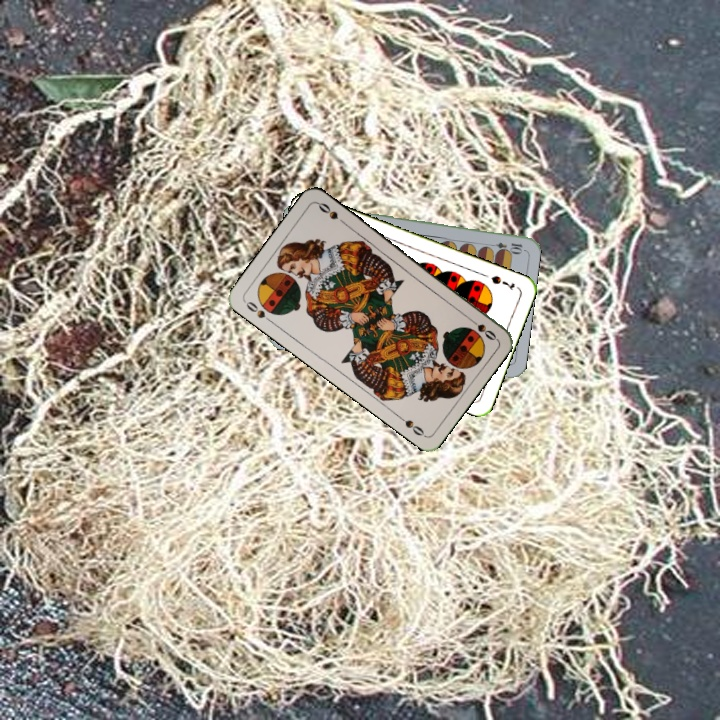E10: (484, 238, 525, 254)
S7: (487, 271, 517, 293)
SO: (464, 313, 499, 343), (241, 297, 276, 326)
